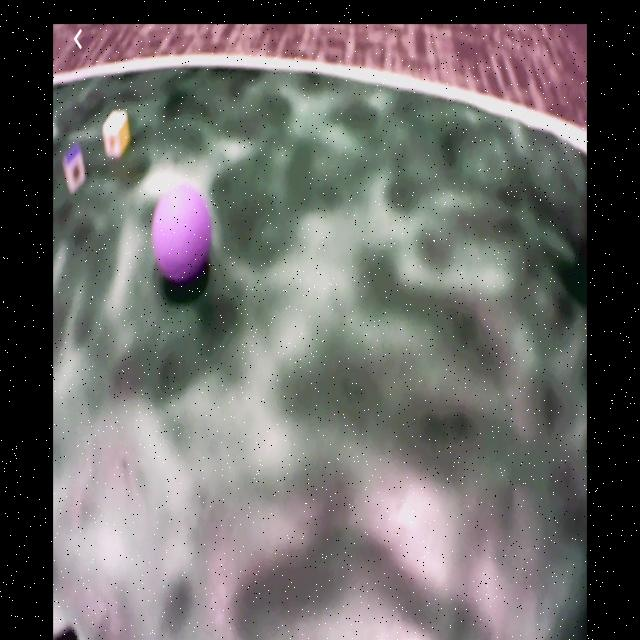ball: (151, 184, 212, 282)
